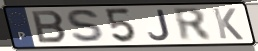5: (103, 6, 139, 44)
B: (29, 9, 69, 45)
J: (147, 9, 172, 42)
K: (211, 7, 246, 41)
R: (171, 7, 215, 43)
S: (65, 8, 109, 45)
